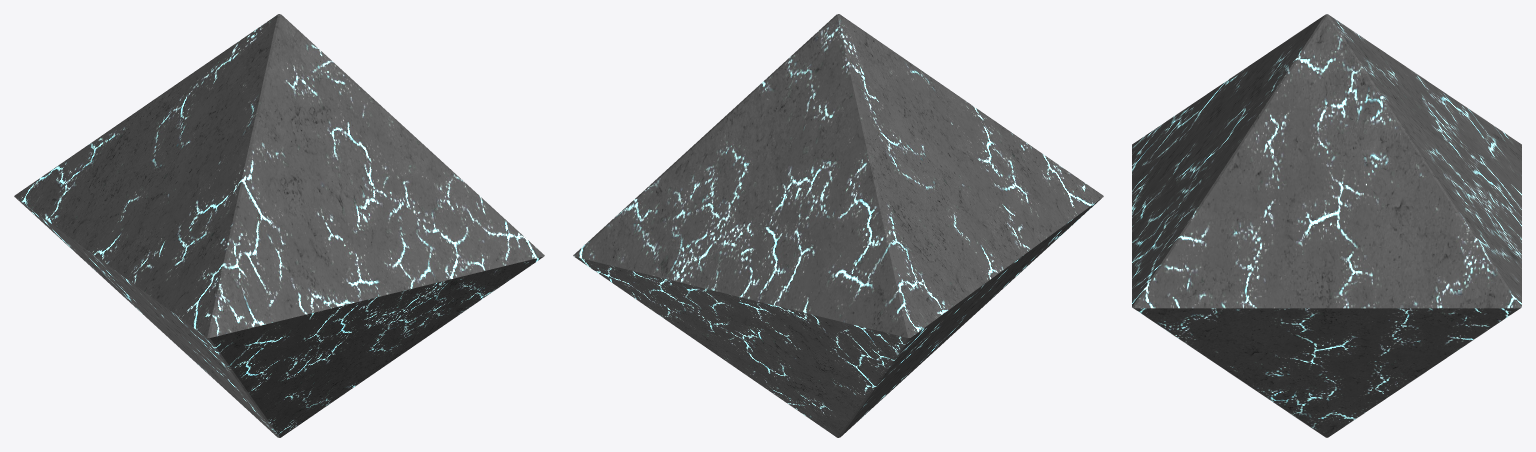
File: prism.gltf
3 views of the same model, side by side, from view 1: azimuth 30°, elevation 25°; view 2: azimuth 150°, elevation 25°; view 3: azimuth 270°, elevation 25° (orthographic).
Visible parts, largest first — view 1: PrismStone; view 2: PrismStone; view 3: PrismStone.
Boxes of the visible parts, bbox=[...] form: PrismStone: bbox=[14, 14, 544, 437]; PrismStone: bbox=[573, 14, 1103, 437]; PrismStone: bbox=[1132, 14, 1521, 437].
Size of the model in its own units: 18.32 by 21.9 by 18.32.
Materials: 1 (1 with a texture image).
